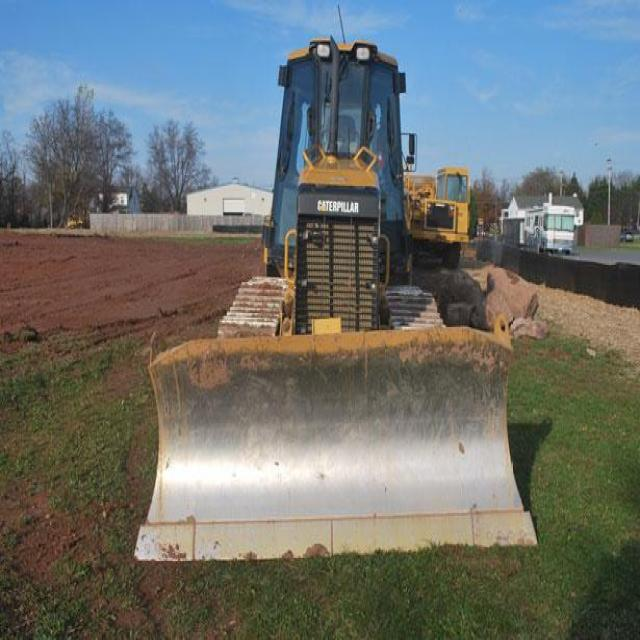Bulldozer: (116, 14, 540, 566)
